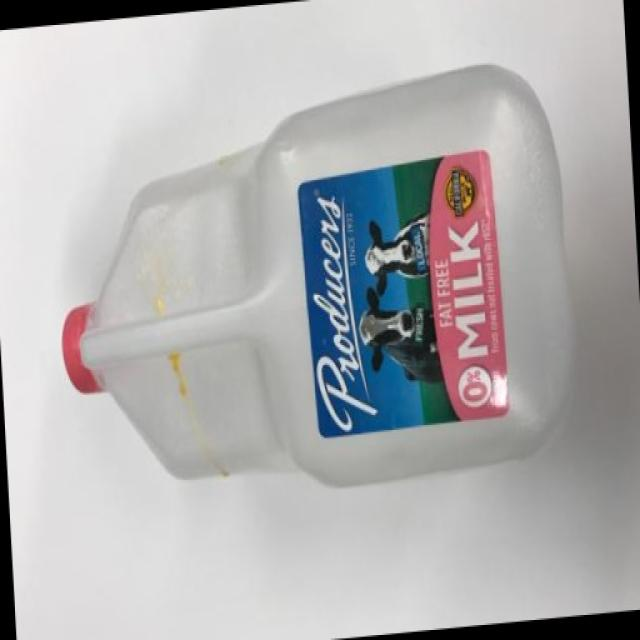plastico: (45, 32, 604, 534)
